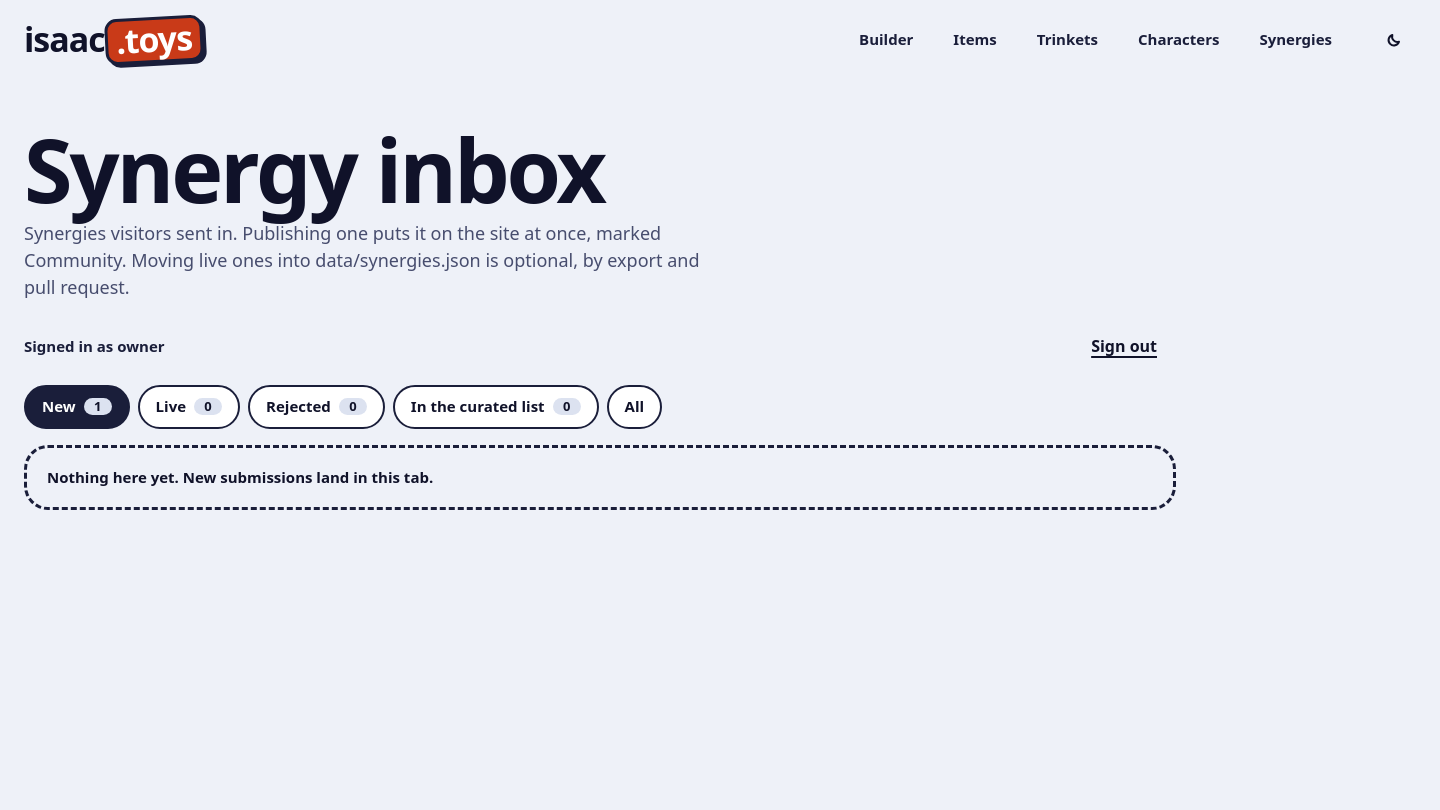
Test case: admin inbox › ignores an answer for a tab that is no longer chosen
The image size is (1440, 810).
Expected: the heading "Synergy inbox" is shown, [24,109,604,229]
Expected: the text "Nothing here yet. New submissions land in this tab." is shown, [24,445,1176,510]
Click the button "Live 0": {"x": 189, "y": 407} [138,385,240,429]
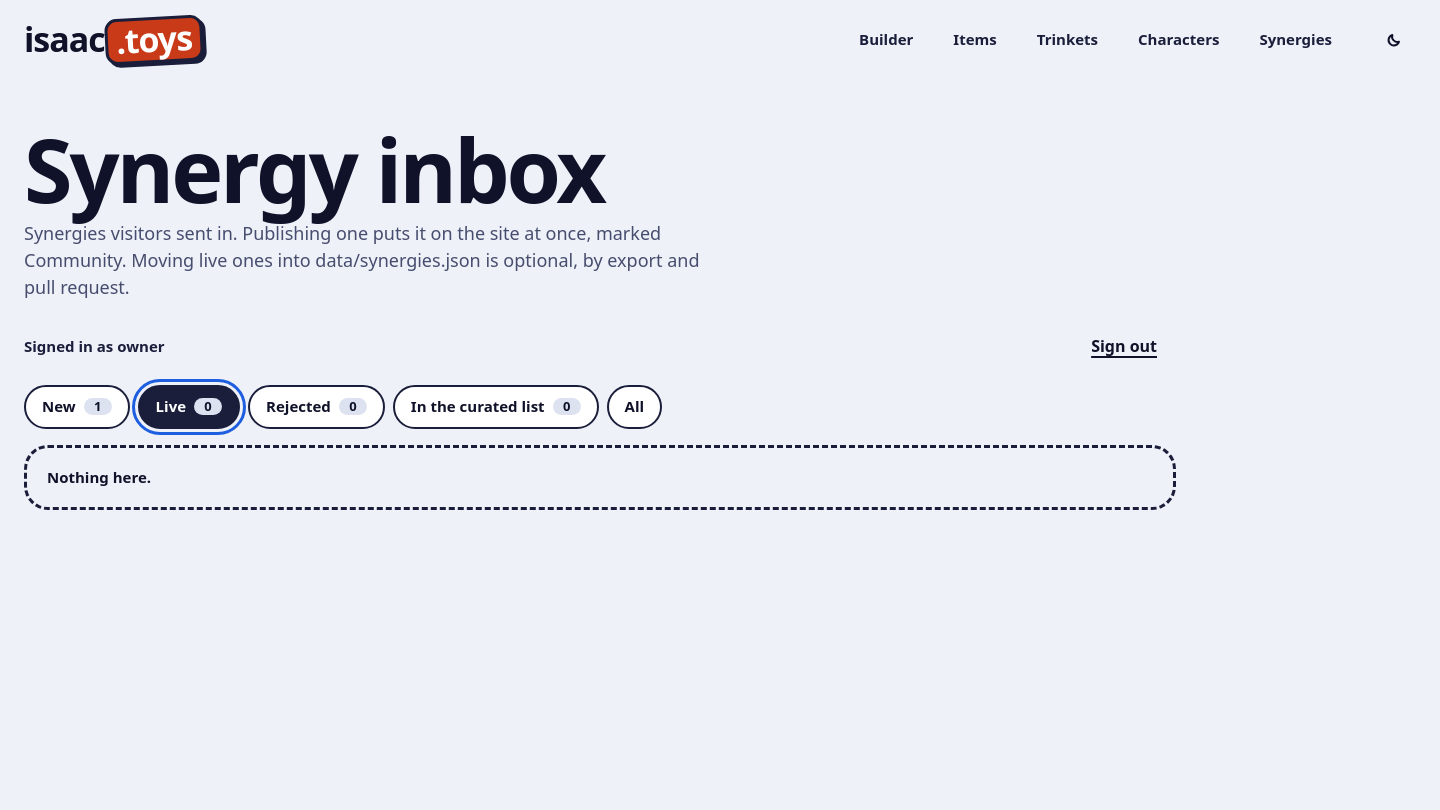
Click the button "Rejected 0": {"x": 316, "y": 407} [248,385,385,429]
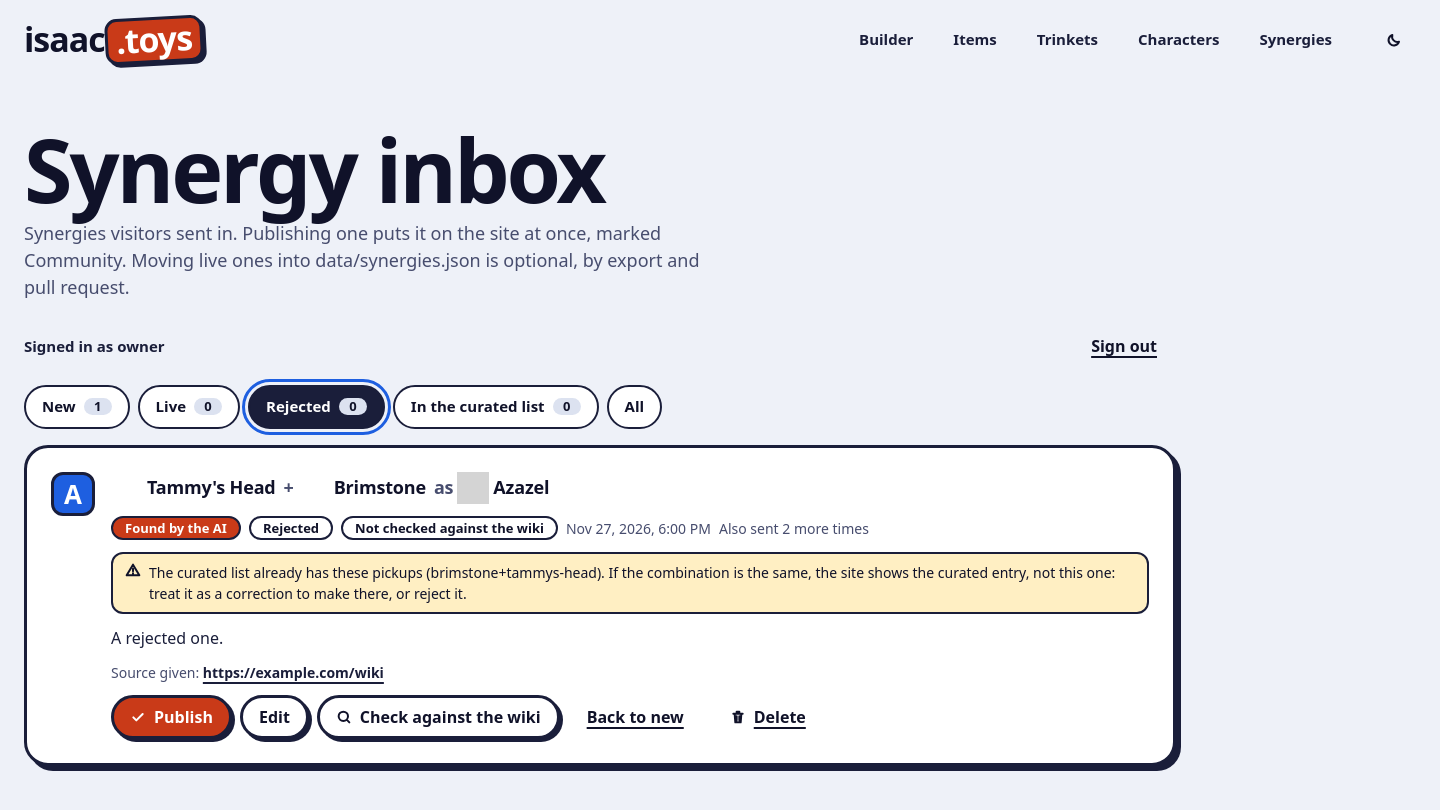
Expected: the text "A rejected one." is shown, [111,628,223,650]
